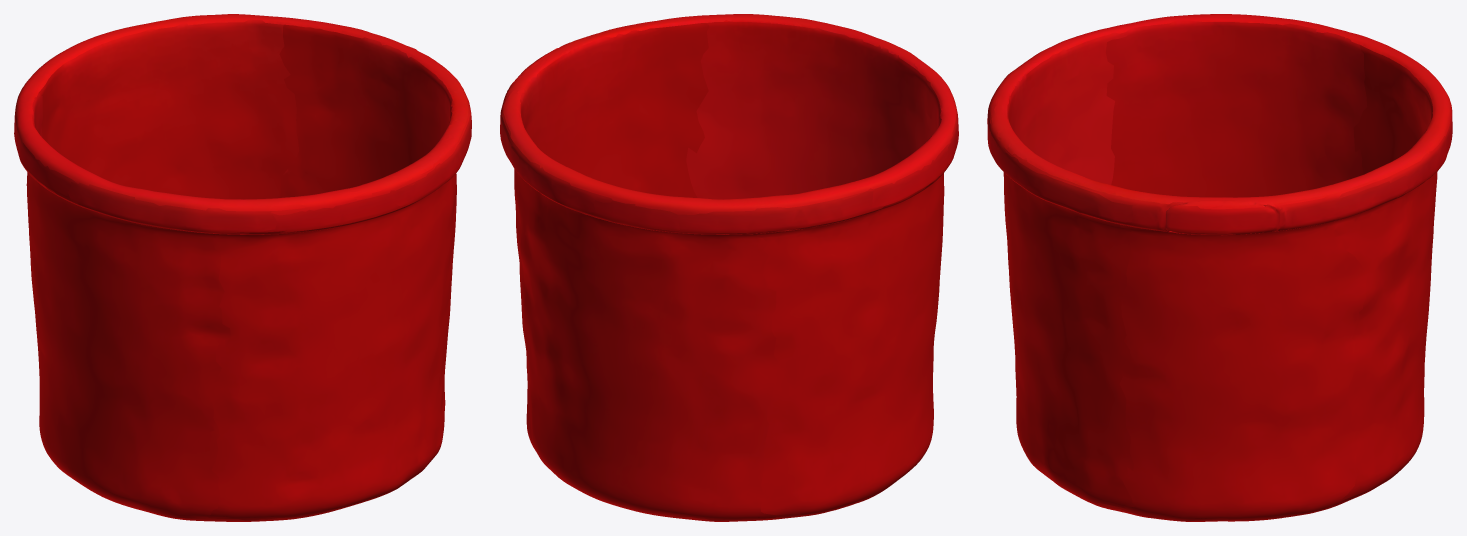
The picture shows the model from 3 angles, left to right: view 1: azimuth 30°, elevation 25°; view 2: azimuth 150°, elevation 25°; view 3: azimuth 270°, elevation 25°; orthographic projection.
Visible parts, largest first — view 1: tmpx7hpxyez.ply; view 2: tmpx7hpxyez.ply; view 3: tmpx7hpxyez.ply.
Boxes of the visible parts, x1,y1,x2,y2 form: tmpx7hpxyez.ply: (14, 14, 471, 521); tmpx7hpxyez.ply: (500, 14, 958, 521); tmpx7hpxyez.ply: (987, 14, 1452, 521).
Size of the model in its own units: 195 by 157 by 196.
Materials: 1 (1 with a texture image).
